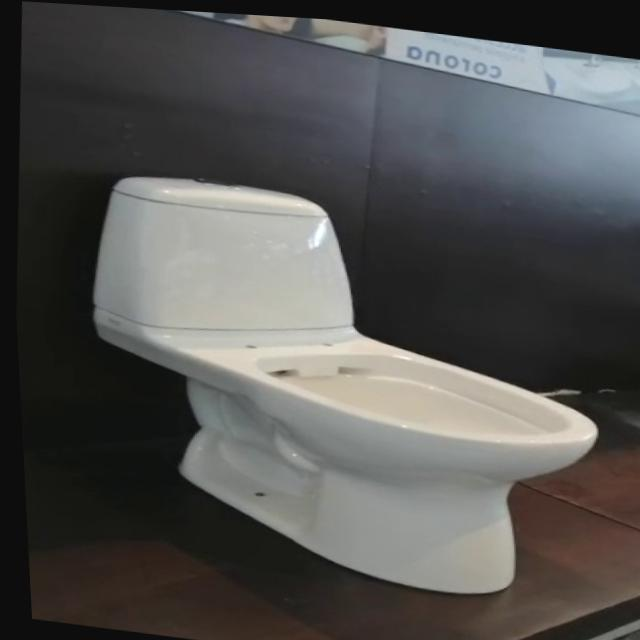toilet: (64, 161, 617, 606)
